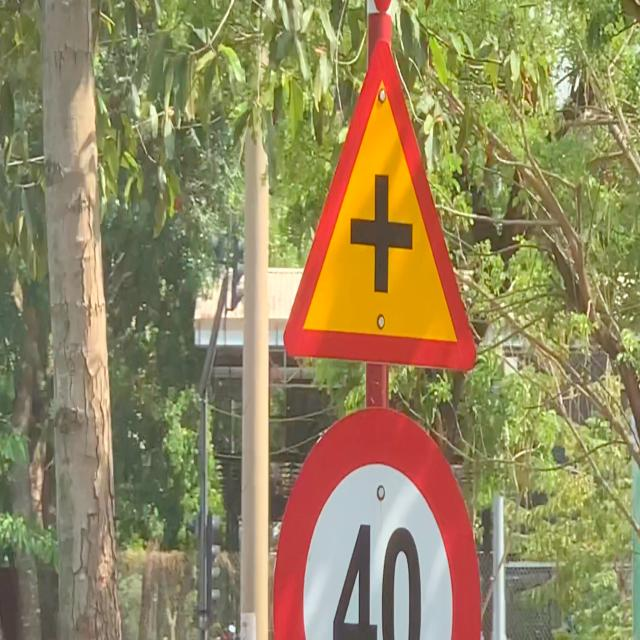Duong giao nhau: (280, 35, 480, 378)
Toc do toi da: (271, 403, 481, 640)
